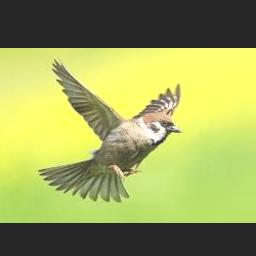Sparrow: (38, 57, 181, 203)
